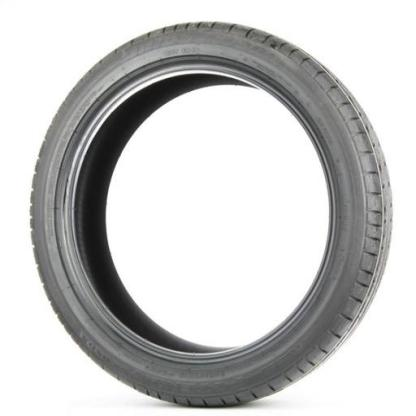Tire: (28, 19, 396, 409)
